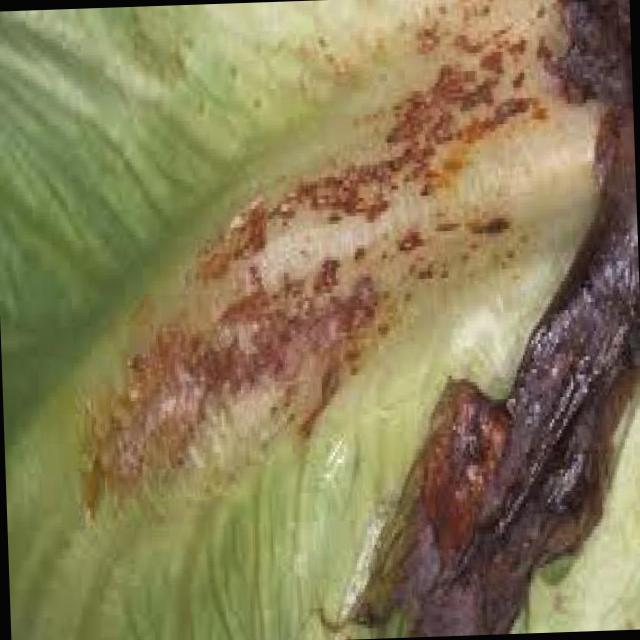Septoria_Blight: (46, 22, 640, 600)
